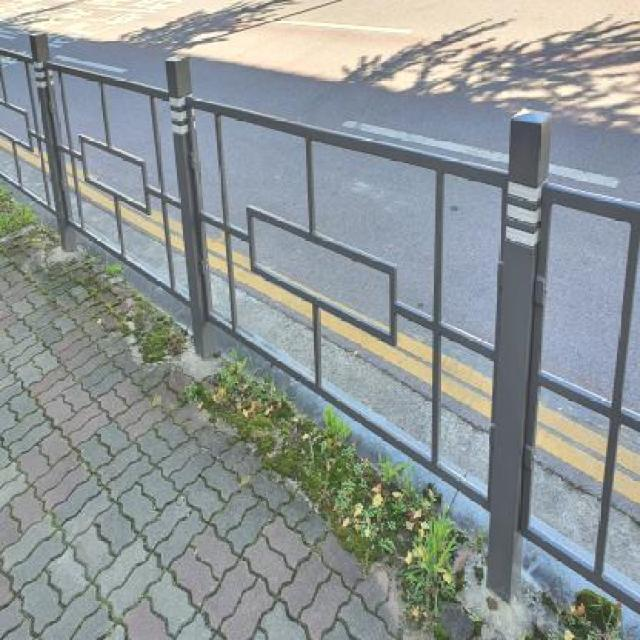fence: (0, 6, 640, 626), (149, 28, 640, 610), (0, 14, 267, 360)
